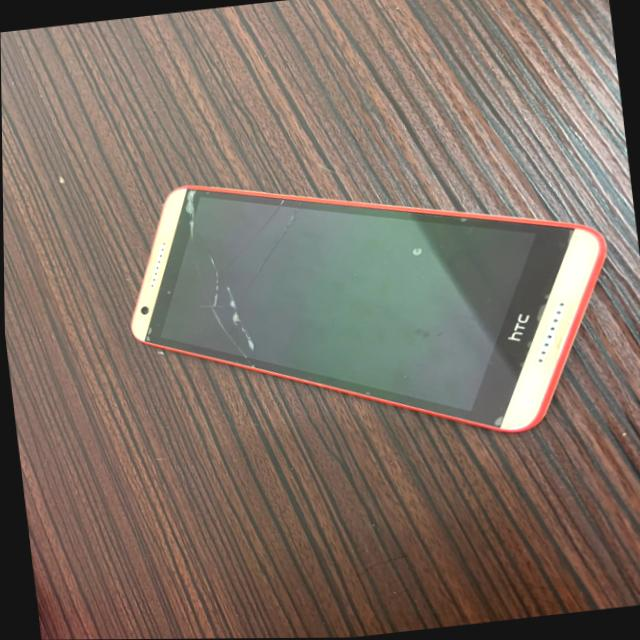Smartphone: (98, 166, 632, 467)
